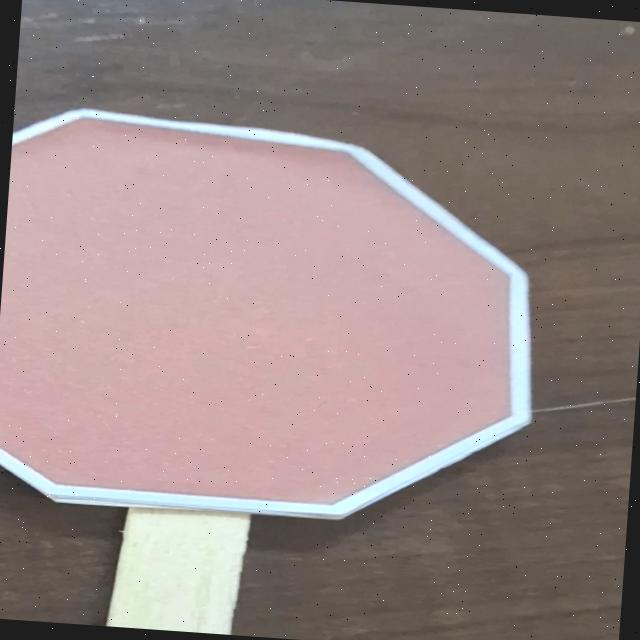Stop: (0, 95, 576, 548)
